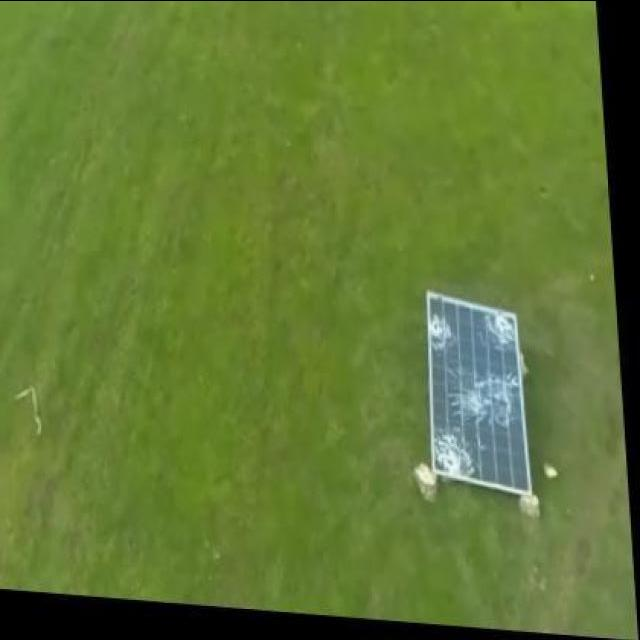cracked: (429, 291, 536, 491)
